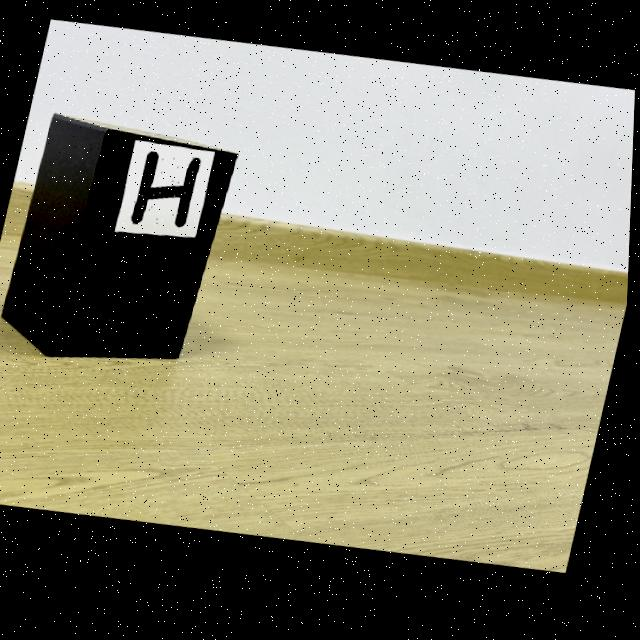H: (133, 154, 202, 231)
